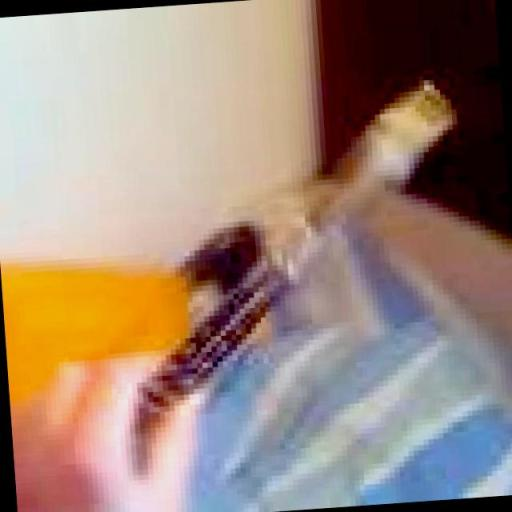knife: (90, 52, 494, 452)
